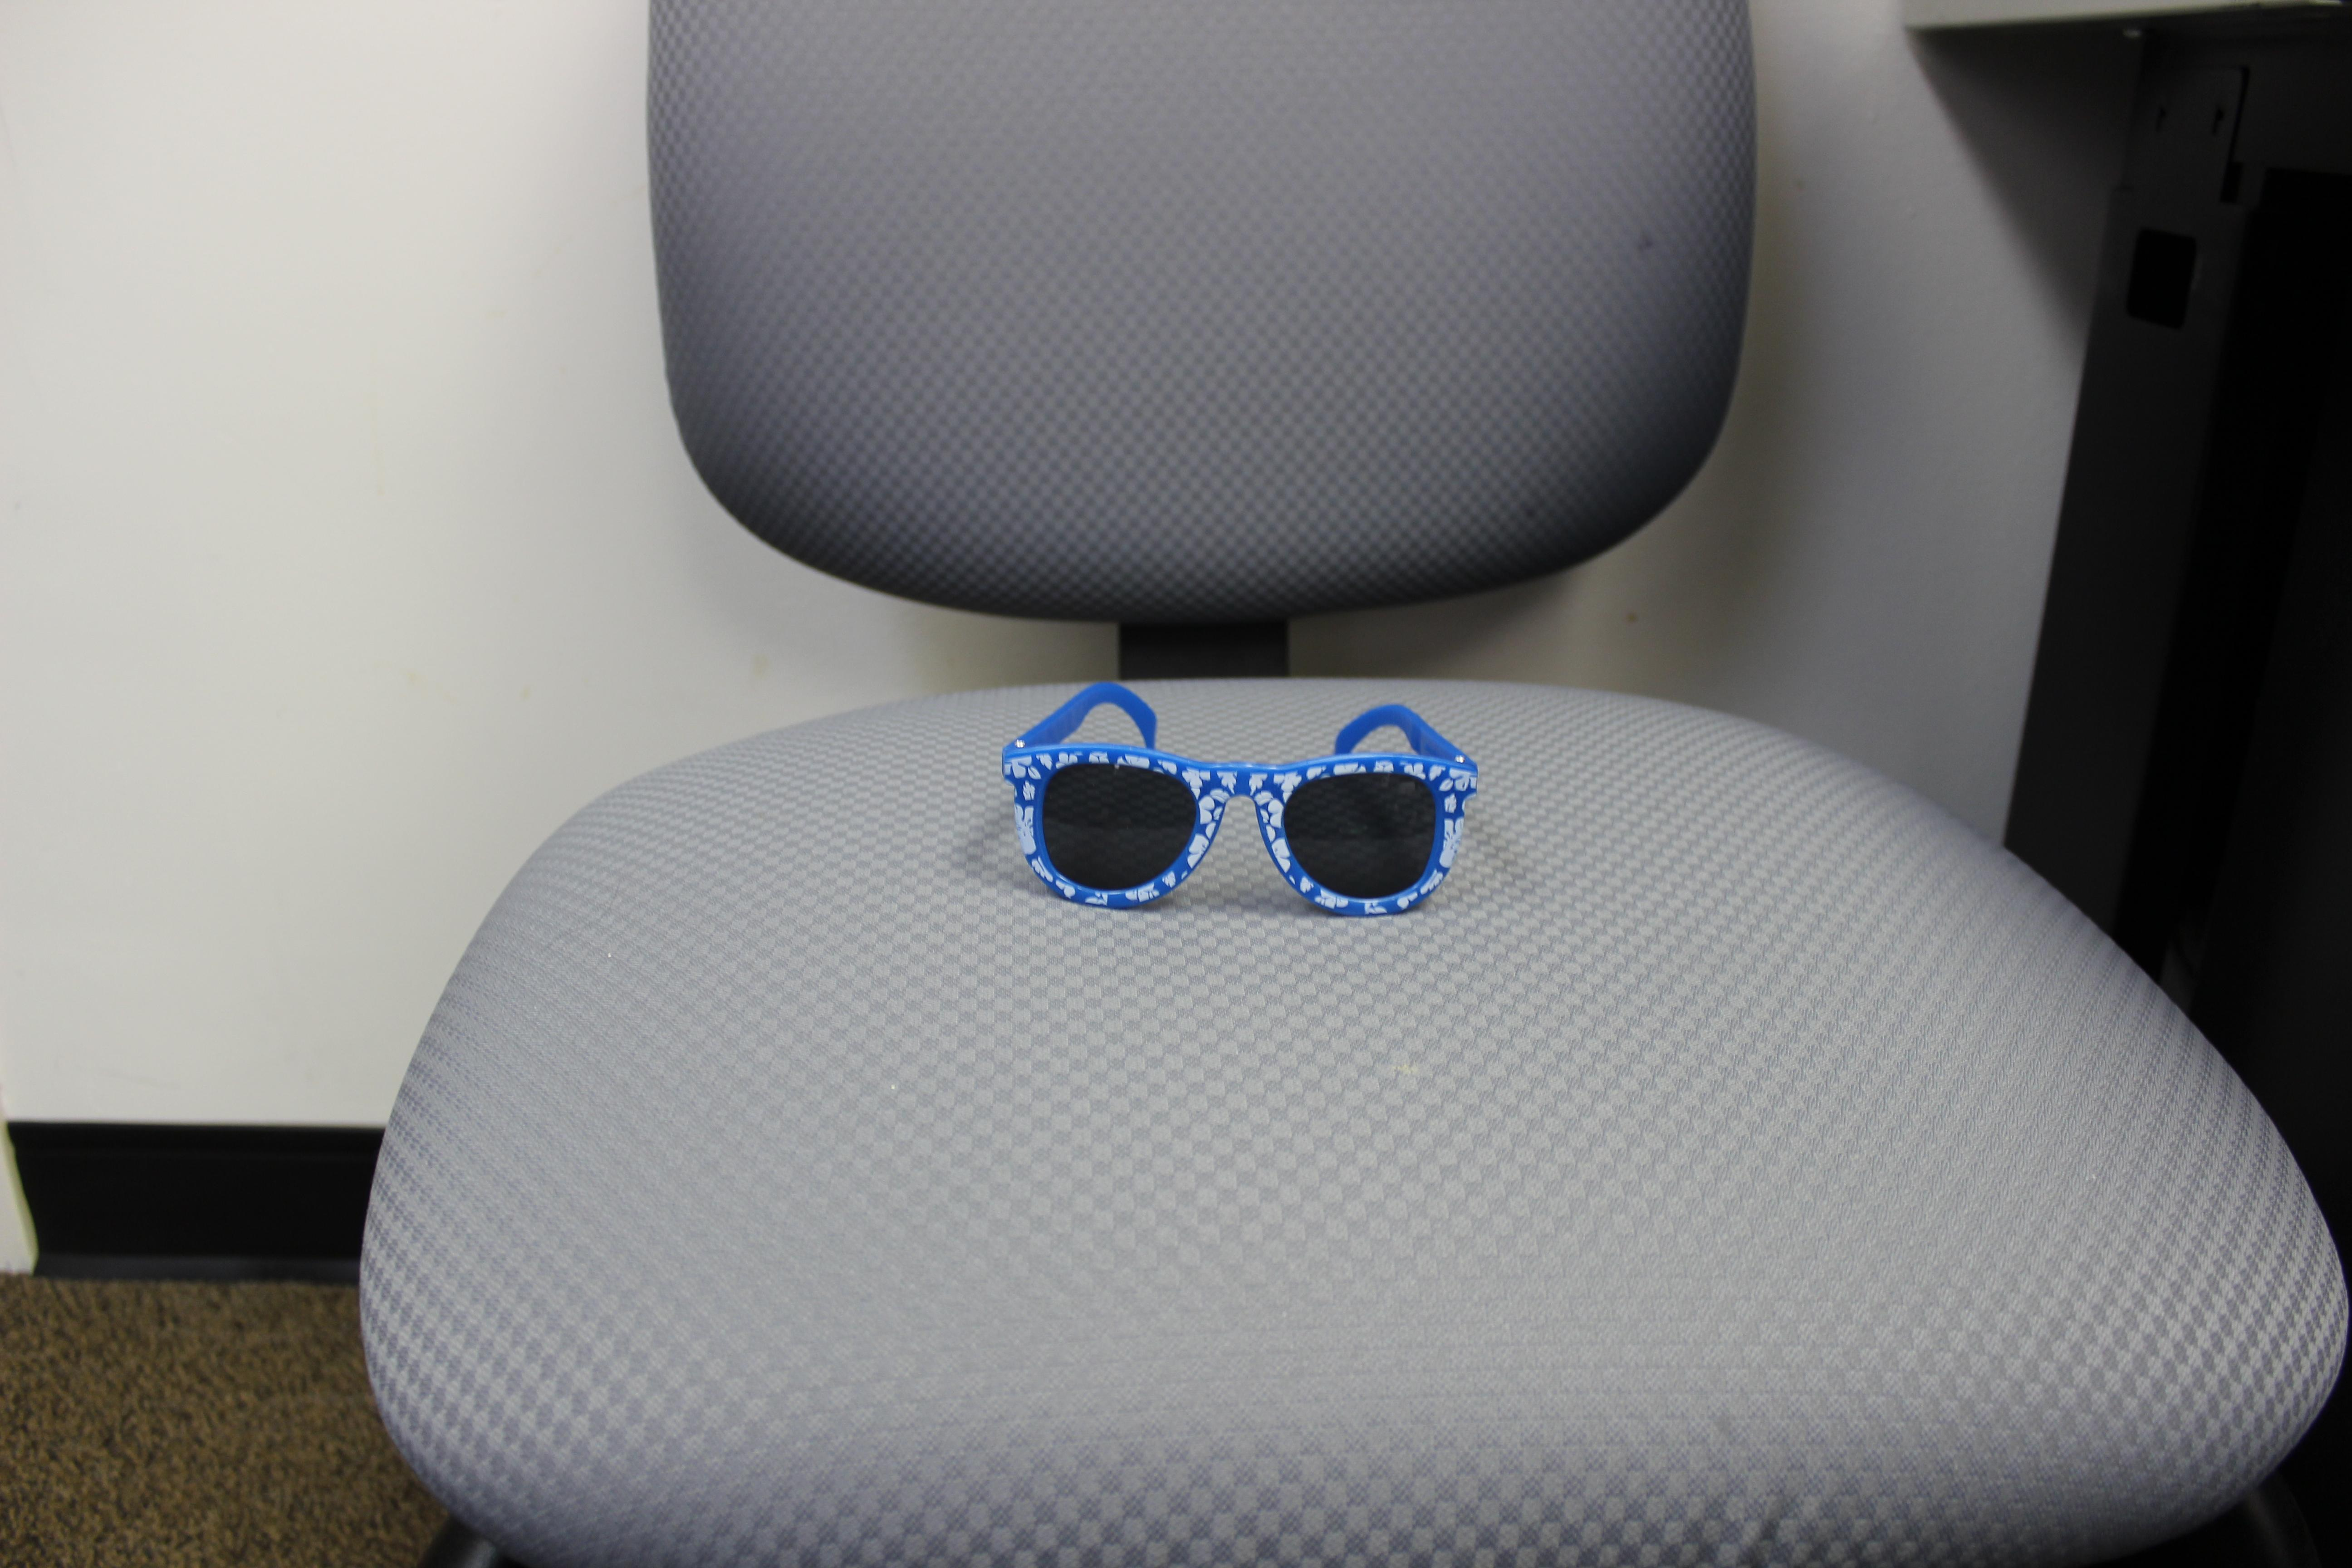blueSunglasses: (964, 670, 1515, 938)
